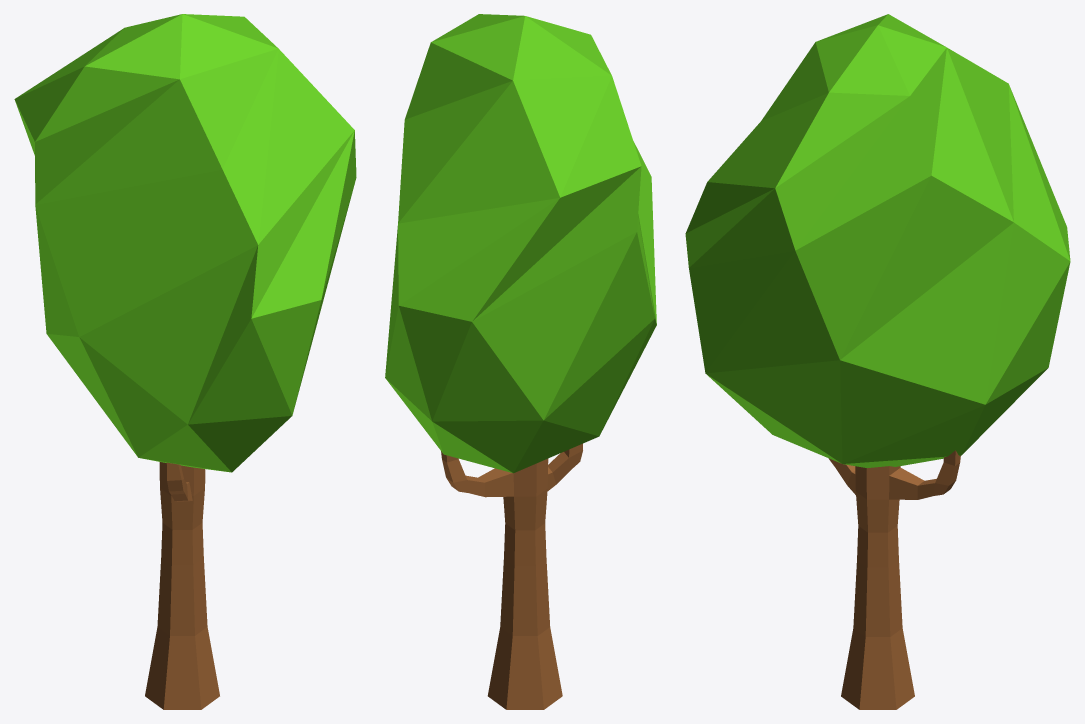
Rendered from tree.fbx.
The picture shows the model from 3 angles, left to right: view 1: azimuth 30°, elevation 25°; view 2: azimuth 150°, elevation 25°; view 3: azimuth 270°, elevation 25°; orthographic projection.
Visible parts, largest first — view 1: Icosphere, Cylinder; view 2: Icosphere, Cylinder; view 3: Icosphere, Cylinder.
Boxes of the visible parts, x1=… form: Icosphere: x1=14, y1=14, x2=356, y2=472; Cylinder: x1=145, y1=462, x2=219, y2=709; Icosphere: x1=385, y1=14, x2=656, y2=473; Cylinder: x1=441, y1=443, x2=582, y2=709; Icosphere: x1=685, y1=14, x2=1070, y2=468; Cylinder: x1=828, y1=450, x2=960, y2=709.
Bounding box in the file's own units: 581 × 1435 × 746.
